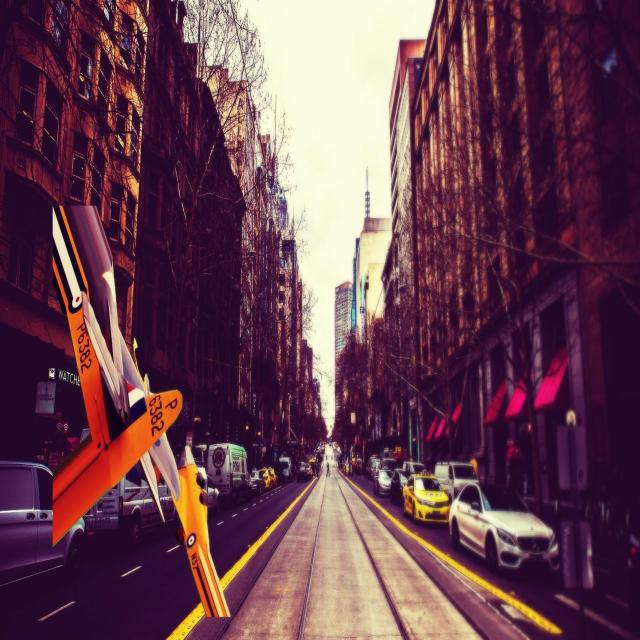airplane: (49, 202, 230, 619)
